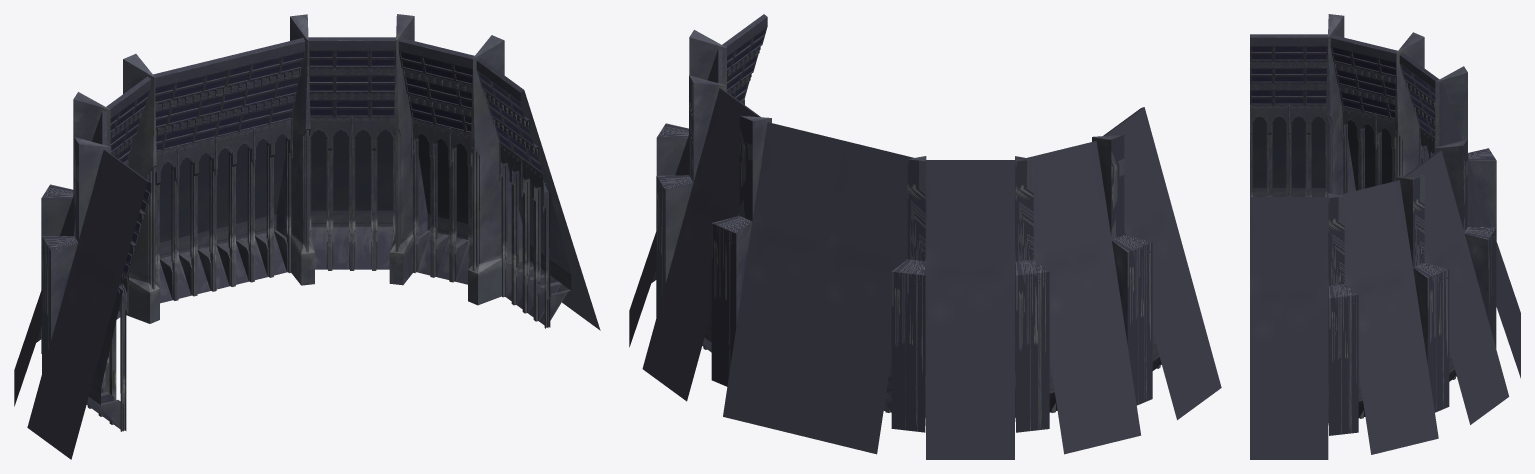
The model's file is NewStandsCorners.fbx.
3 views of the same model, side by side, from view 1: azimuth 30°, elevation 25°; view 2: azimuth 150°, elevation 25°; view 3: azimuth 270°, elevation 25° (orthographic). The views are drawn at different scales.
Parts seen in each view (by area): view 1: Stands Wall Corner R, Stands Wall Corner L; view 2: Stands Wall Corner L, Stands Wall Corner R; view 3: Stands Wall Corner R, Stands Wall Corner L.
Boxes of the visible parts, bbox=[...] form: Stands Wall Corner R: bbox=[200, 14, 600, 330]; Stands Wall Corner L: bbox=[14, 54, 229, 459]; Stands Wall Corner L: bbox=[800, 107, 1221, 459]; Stands Wall Corner R: bbox=[629, 14, 844, 435]; Stands Wall Corner R: bbox=[1250, 115, 1520, 459]; Stands Wall Corner L: bbox=[1250, 14, 1520, 345].
Size of the model in its own units: 13871 by 6774 by 6935.
